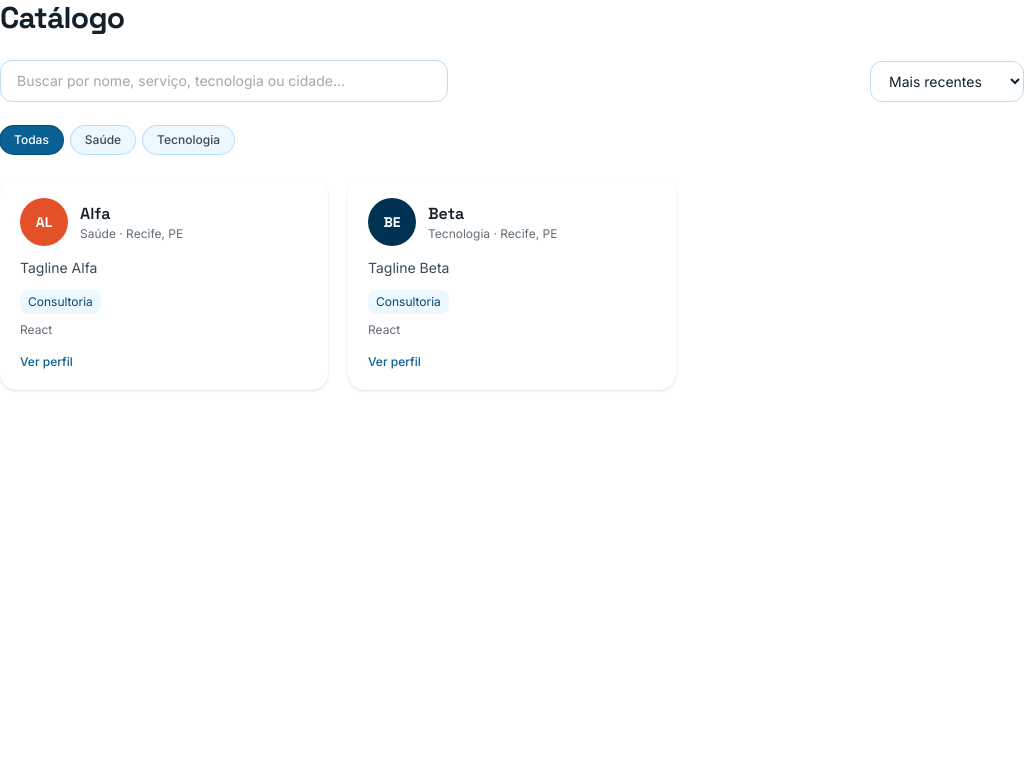
Test case: MuralStartups › abre o perfil ao clicar no cartão
The width and height of the screenshot is (1024, 768).
Expected: the heading "Alfa" is shown, [80,203,110,224]
Click the button with aria-label "Ver perfil de Alfa".
click(44, 222)  # box [0,178,328,390]
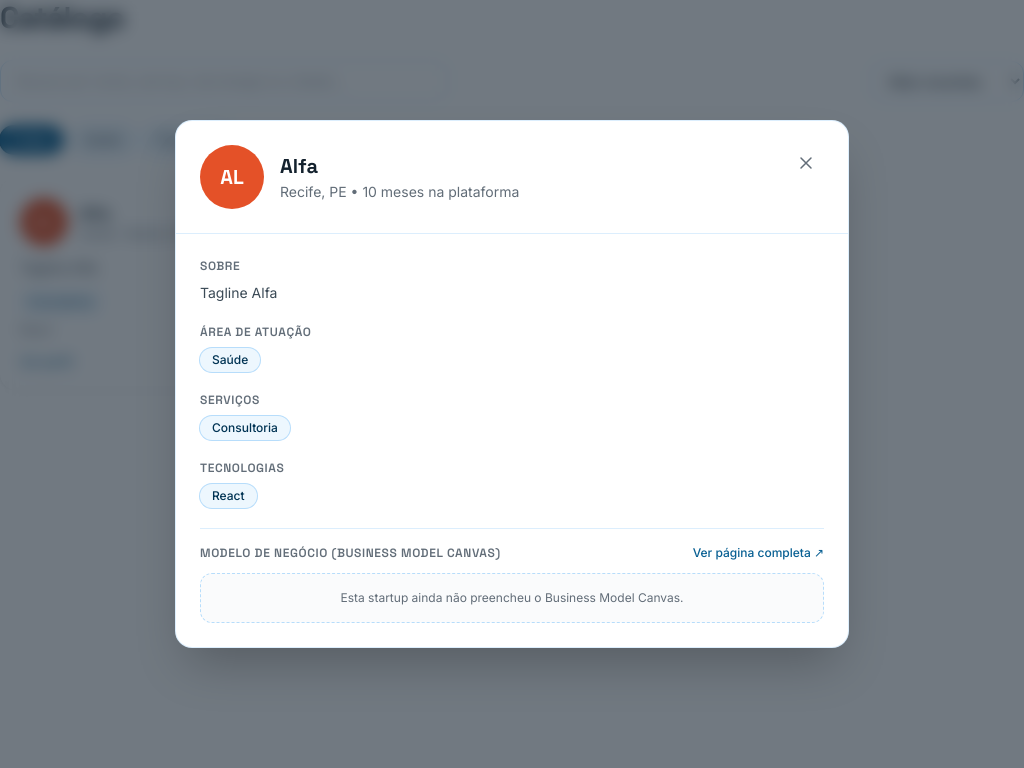
Result: the dialog is shown
